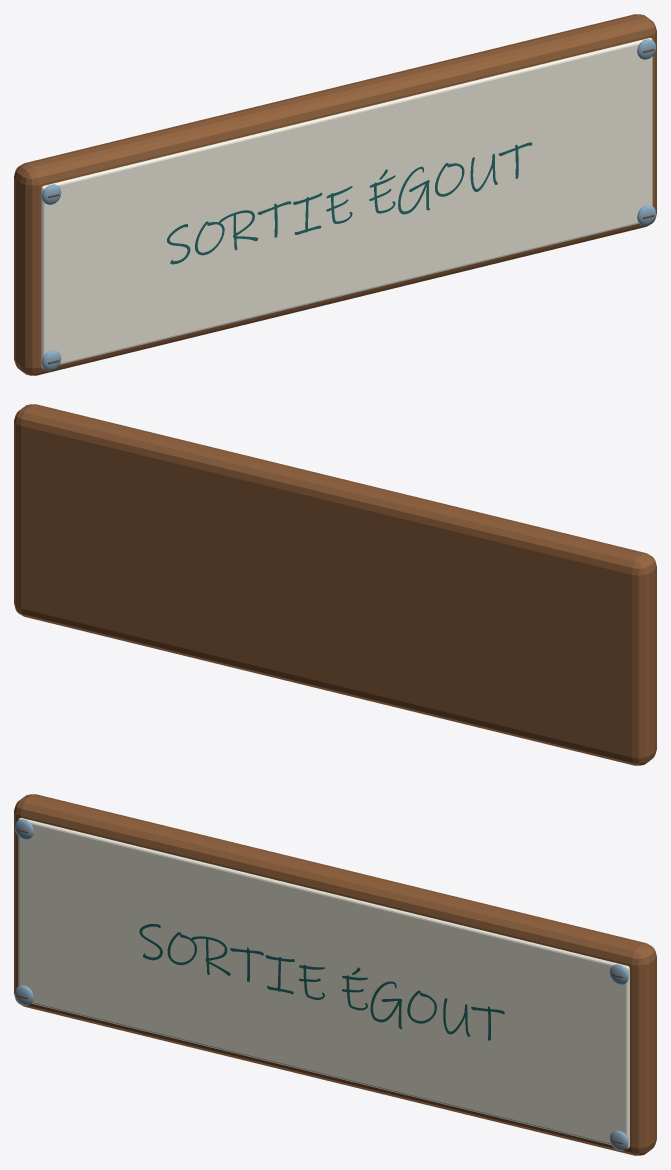
The model's file is sewer_sign.glb.
The picture shows the model from 3 angles, top to bottom: view 1: azimuth 30°, elevation 25°; view 2: azimuth 150°, elevation 25°; view 3: azimuth 330°, elevation 25°; orthographic projection.
Parts seen in each view (by area): view 1: Sign_cream_face, Sign_timber, Flat_sign; view 2: Sign_timber; view 3: Sign_cream_face, Sign_timber, Flat_sign.
Boxes of the visible parts, x1,y1,x2,y2 form: Sign_cream_face: (41, 38, 652, 368); Sign_timber: (14, 14, 656, 375); Flat_sign: (167, 142, 532, 264); Sign_timber: (14, 404, 656, 765); Sign_cream_face: (18, 818, 629, 1148); Sign_timber: (14, 794, 656, 1155); Flat_sign: (139, 924, 504, 1040).
Bounding box in the file's own units: 0.8 × 0.25 × 0.0554.
